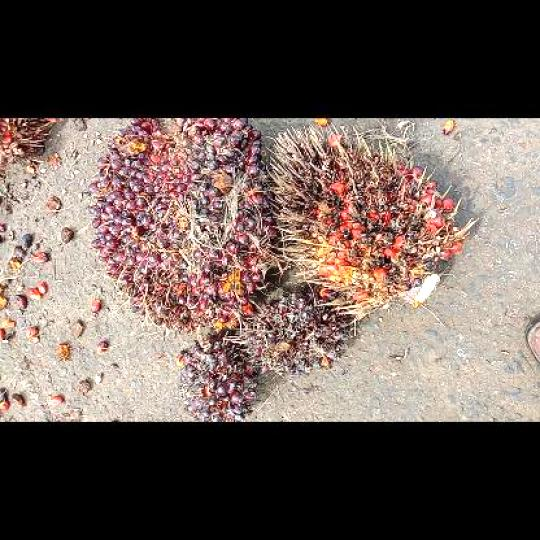masak: (88, 118, 278, 334)
terlalu masak: (266, 123, 464, 321)
